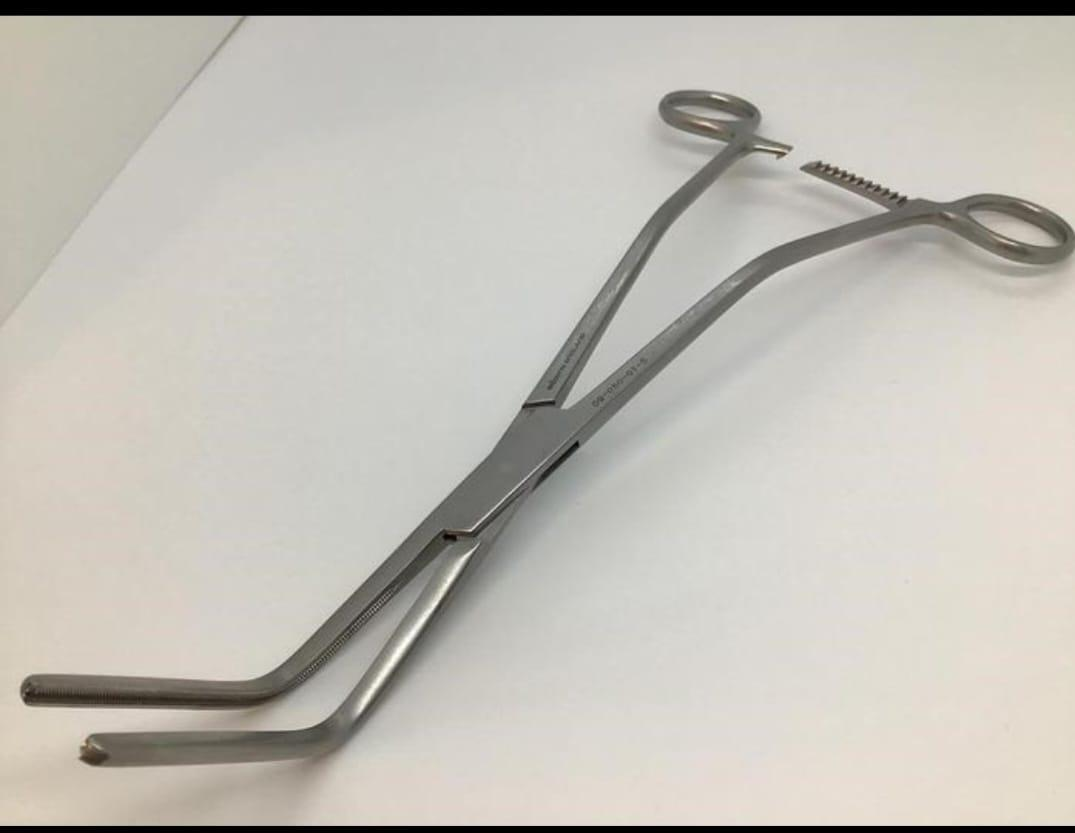Surgical blade: (20, 81, 1075, 778)
